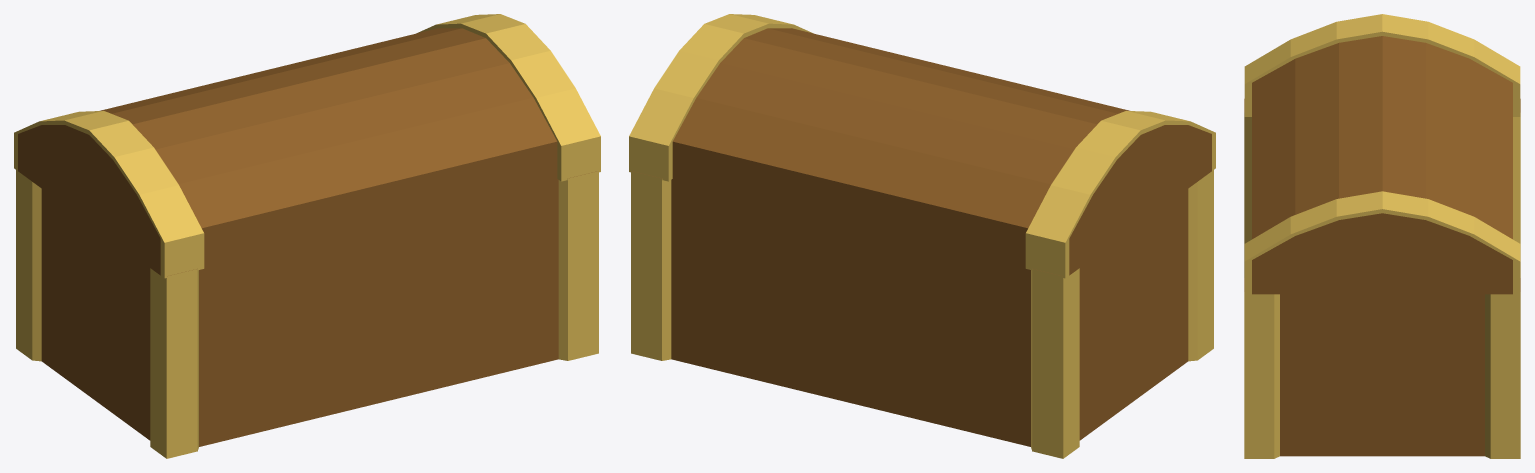
The model's file is chest.fbx.
The picture shows the model from 3 angles, left to right: view 1: azimuth 30°, elevation 25°; view 2: azimuth 150°, elevation 25°; view 3: azimuth 270°, elevation 25°; orthographic projection. The views are drawn at different scales.
Parts seen in each view (by area): view 1: Chest, Cube.001; view 2: Chest, Cube.001; view 3: Cube.001, Chest.
Part boxes in pixels (x1=…): Chest: x1=16, y1=170, x2=598, y2=458; Cube.001: x1=14, y1=14, x2=600, y2=278; Chest: x1=631, y1=170, x2=1213, y2=458; Cube.001: x1=629, y1=14, x2=1215, y2=278; Cube.001: x1=1244, y1=14, x2=1520, y2=294; Chest: x1=1244, y1=99, x2=1520, y2=458.
Size of the model in its own units: 90.84 by 54.37 by 54.48.
